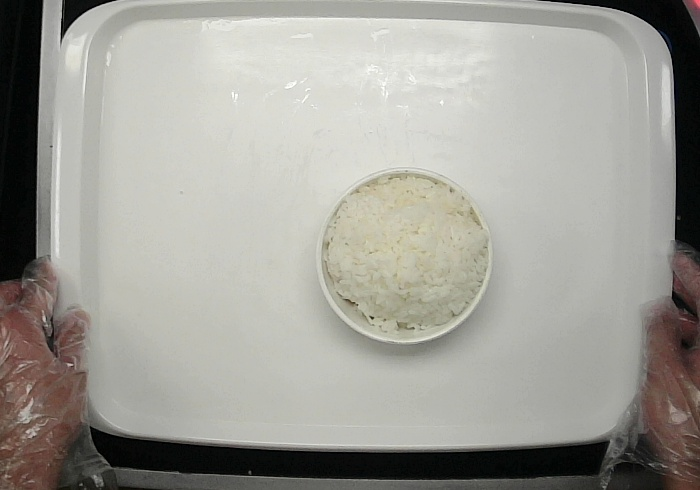HZYJPL-Fan_Wan: (315, 164, 495, 344)
